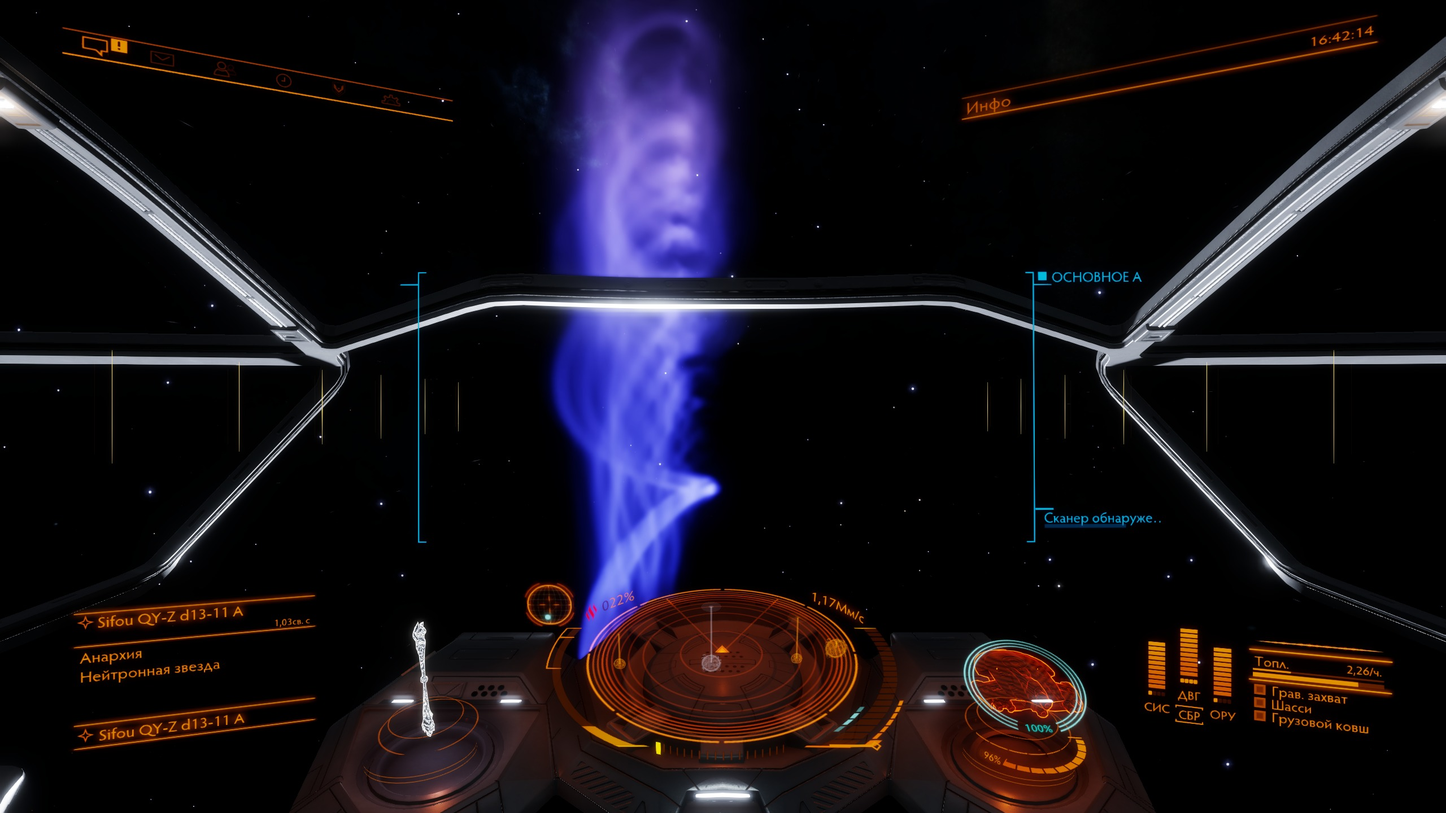jetcone: (549, 19, 760, 601), (556, 23, 753, 627)
